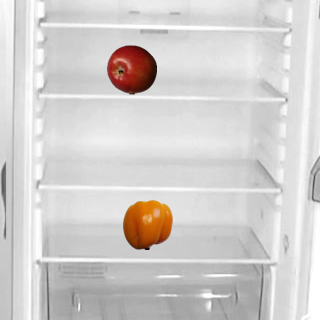Apple Braeburn: (106, 44, 156, 94)
Pepper Yellow: (122, 199, 172, 249)
